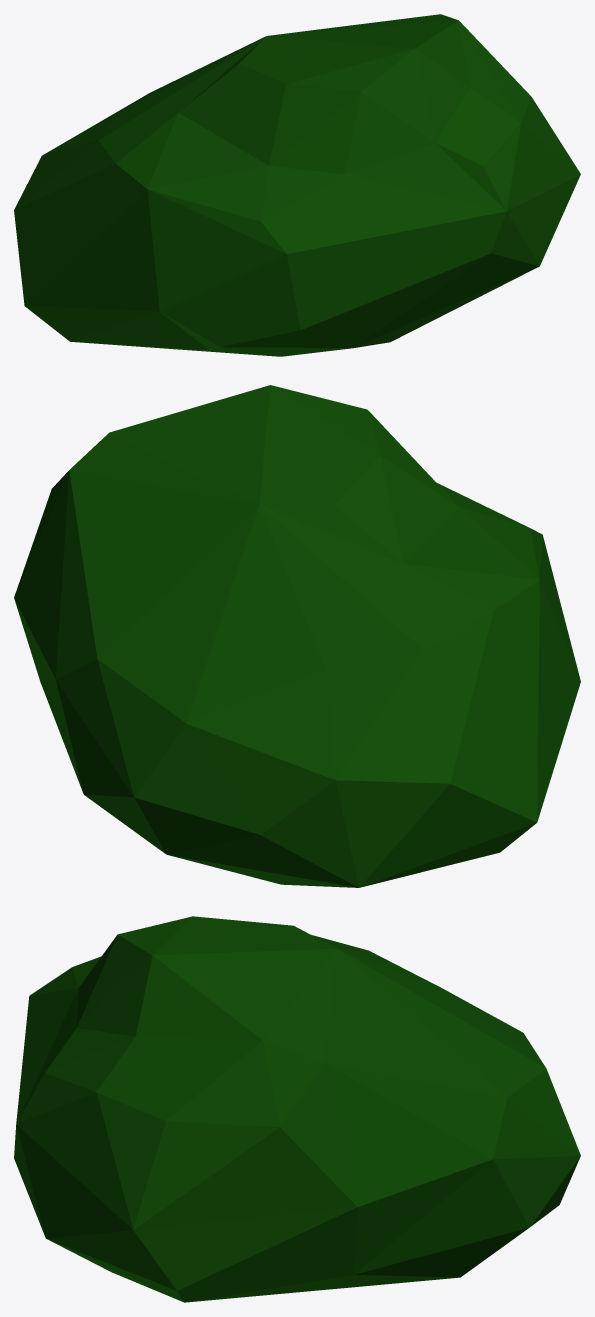
The model's file is põõsas.fbx.
The picture shows the model from 3 angles, top to bottom: view 1: azimuth 30°, elevation 25°; view 2: azimuth 150°, elevation 25°; view 3: azimuth 270°, elevation 25°; orthographic projection. The views are drawn at different scales.
Parts seen in each view (by area): view 1: Icosphere; view 2: Icosphere; view 3: Icosphere.
Part boxes in pixels (x1,y1,x2,y2): Icosphere: (14, 14, 580, 356); Icosphere: (14, 385, 580, 887); Icosphere: (14, 916, 580, 1302).
Bounding box in the file's own units: 283 × 166 × 253.
